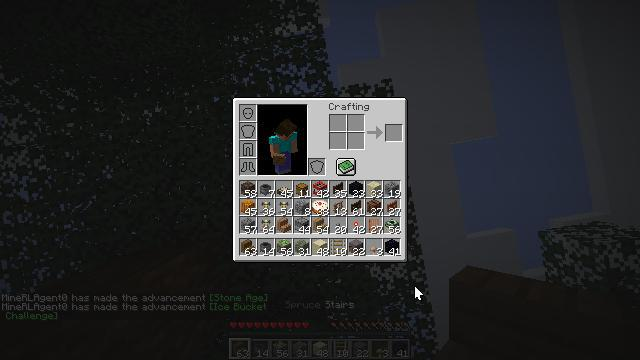cursor: (414, 285, 424, 301)
